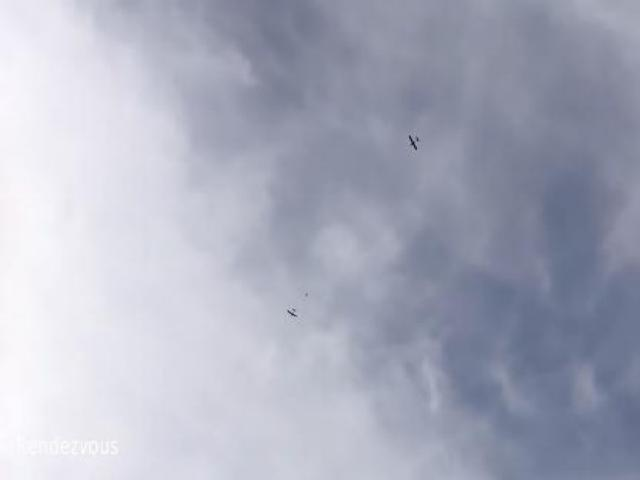uav: (407, 132, 421, 152), (286, 304, 300, 318)
